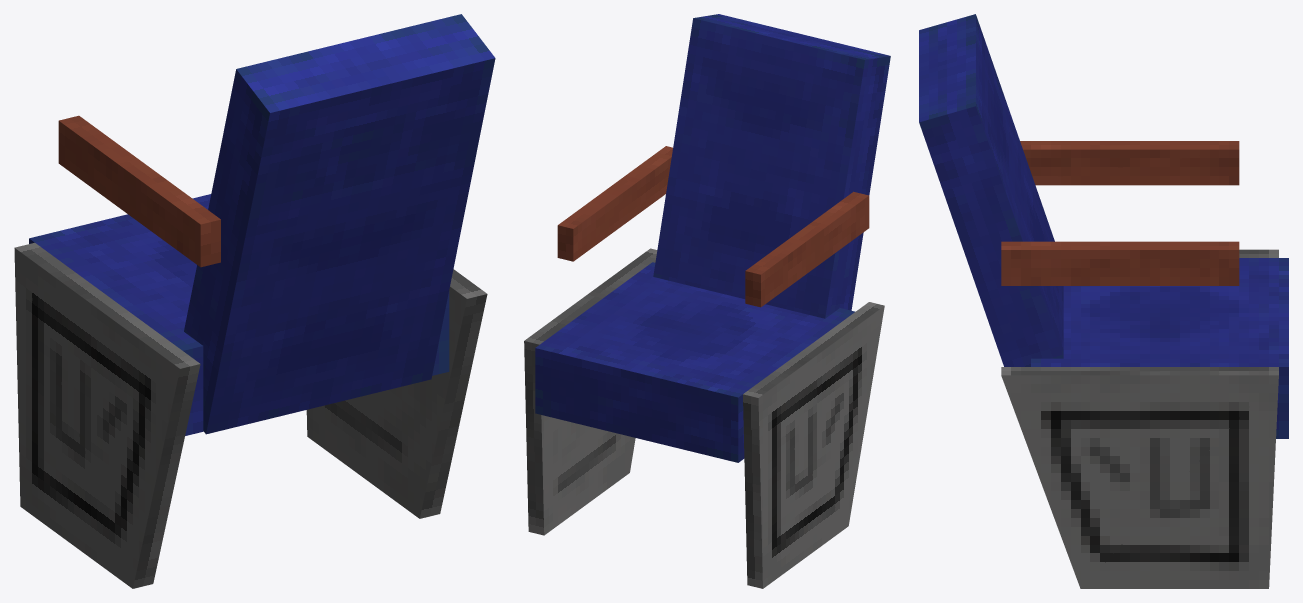
Rendered from chair.glb.
3 renders of one model, left to right at view 1: azimuth 30°, elevation 25°; view 2: azimuth 150°, elevation 25°; view 3: azimuth 270°, elevation 25°, orthographic. The views are drawn at different scales.
Visible parts, largest first — view 1: backseat, left_leg, right_leg, seat, left_arm; view 2: backseat, seat, left_leg, right_leg, left_arm, right_arm; view 3: right_leg, backseat, seat, right_arm, left_arm.
Part boxes in pixels (bbox=[...]): backseat: bbox=[184, 14, 495, 434]; left_leg: bbox=[14, 242, 200, 588]; right_leg: bbox=[306, 269, 487, 518]; seat: bbox=[29, 194, 449, 435]; left_arm: bbox=[58, 115, 220, 267]; backseat: bbox=[653, 14, 890, 318]; seat: bbox=[535, 262, 855, 462]; left_leg: bbox=[743, 302, 884, 588]; right_leg: bbox=[524, 248, 657, 535]; left_arm: bbox=[745, 191, 869, 307]; right_arm: bbox=[557, 146, 672, 261]; right_leg: bbox=[1001, 367, 1278, 588]; backseat: bbox=[919, 14, 1063, 366]; seat: bbox=[1031, 258, 1288, 438]; right_arm: bbox=[1001, 241, 1239, 285]; left_arm: bbox=[1020, 141, 1239, 185].
Bounding box in the file's own units: 1.88 × 3.24 × 2.33.
3 materials, 3 textured.
